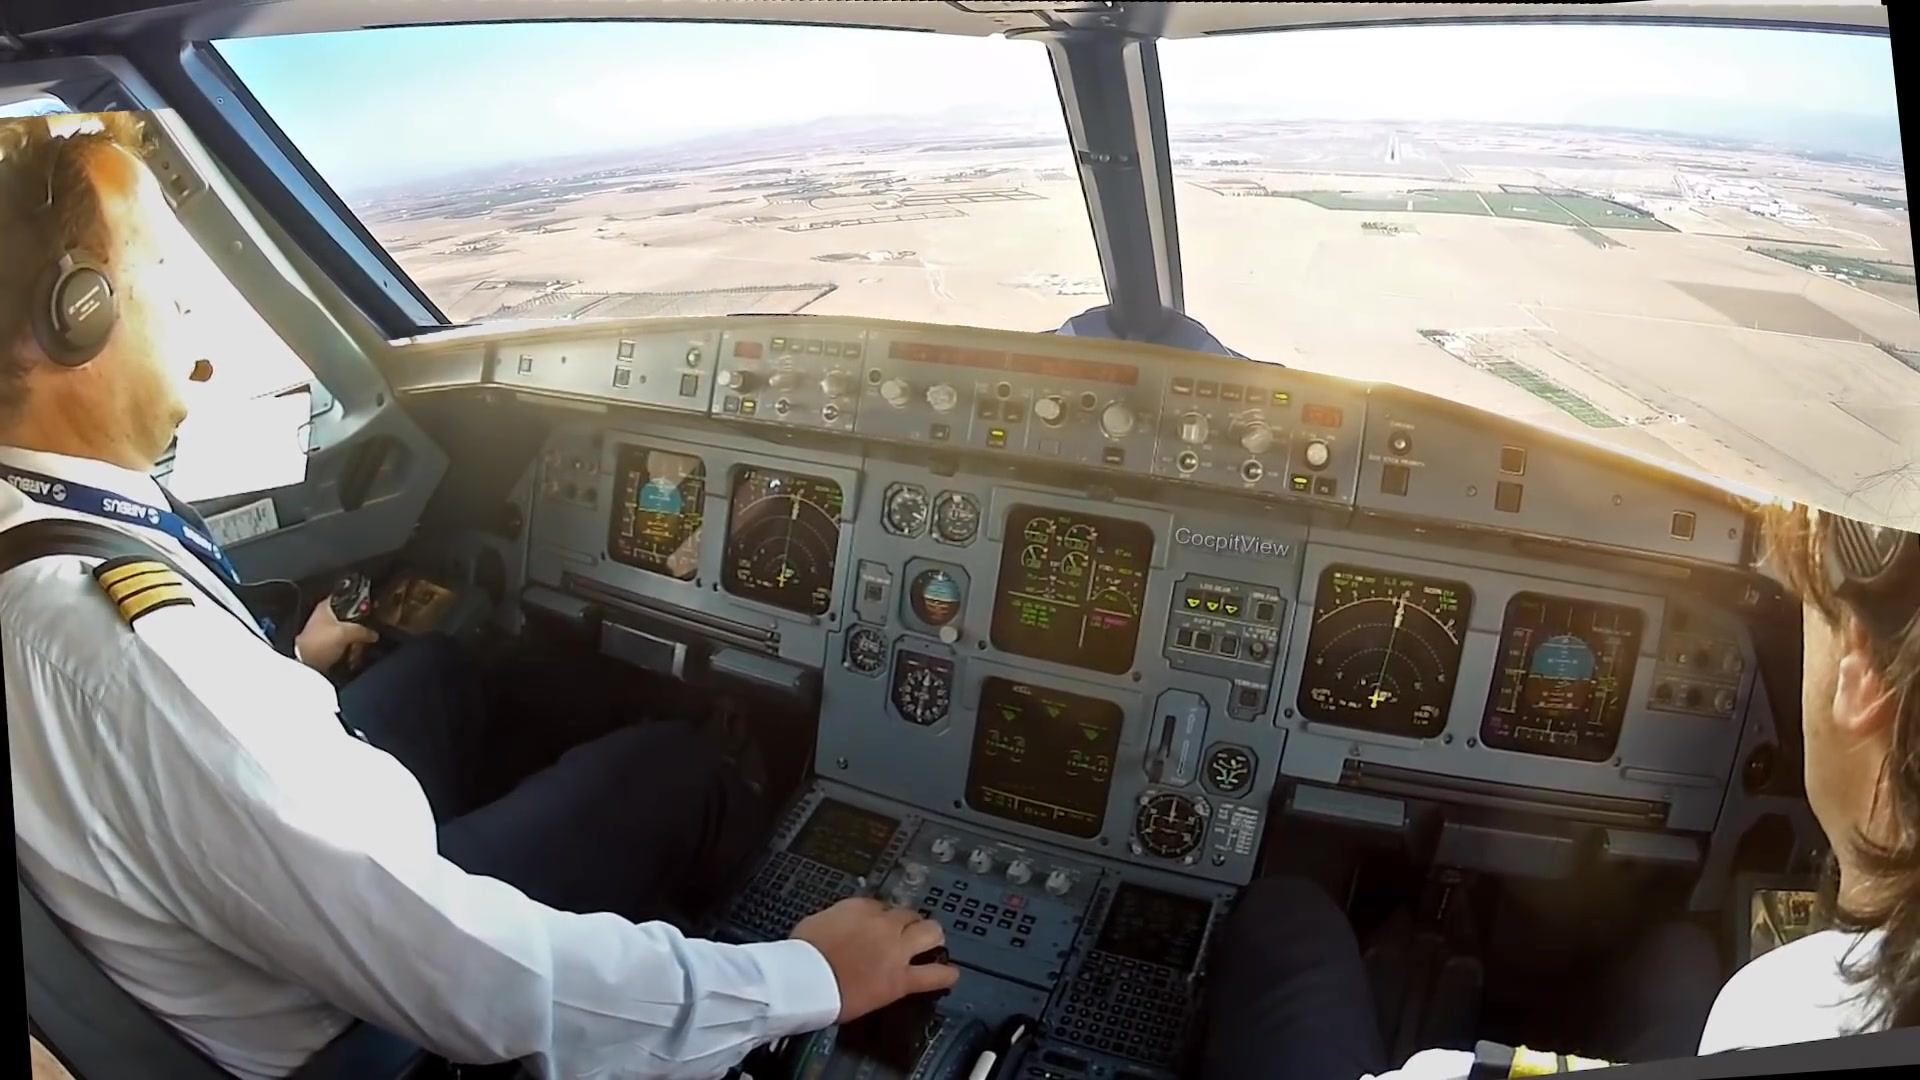runway: (1381, 131, 1404, 166)
